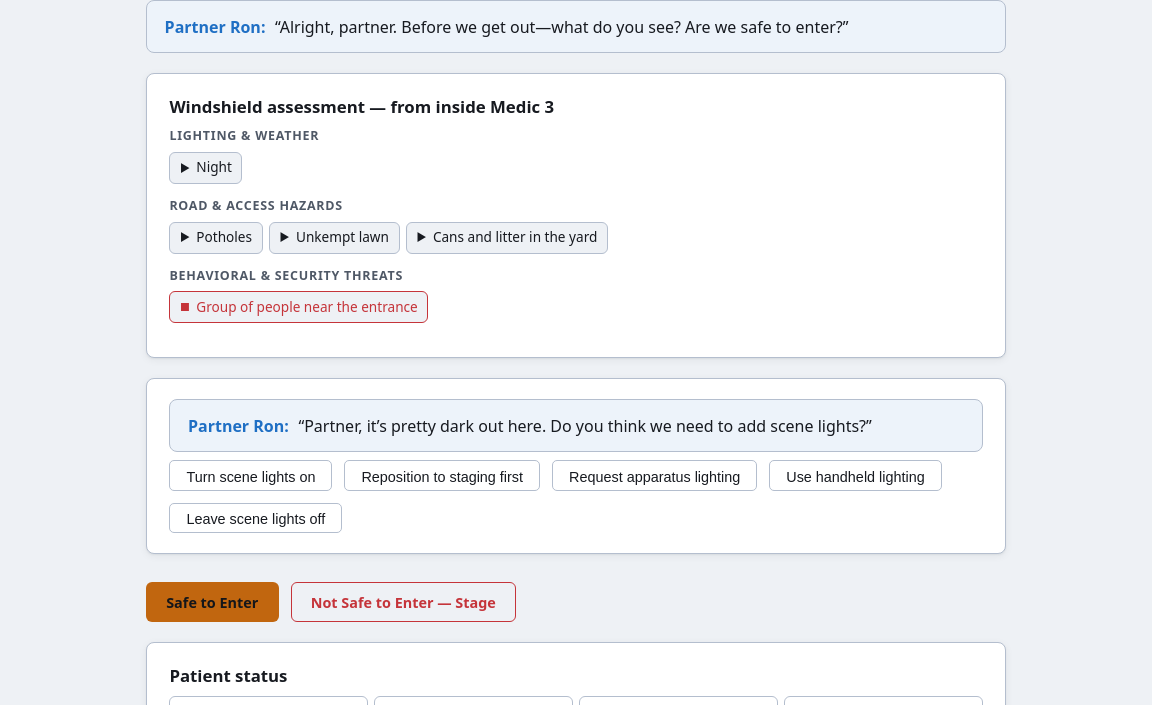
Test case: SceneSafety — windshield & clinical lock (§15, §19) › asks the dark-scene lights question and reveals hidden hazards when lights go on (§17, fix #5)
Expected: the text "Do you think we need to add scene lights" is shown, [304, 415, 866, 437]
Click the button "Turn scene lights on" at {"x": 251, "y": 475}, box [169, 460, 332, 491]
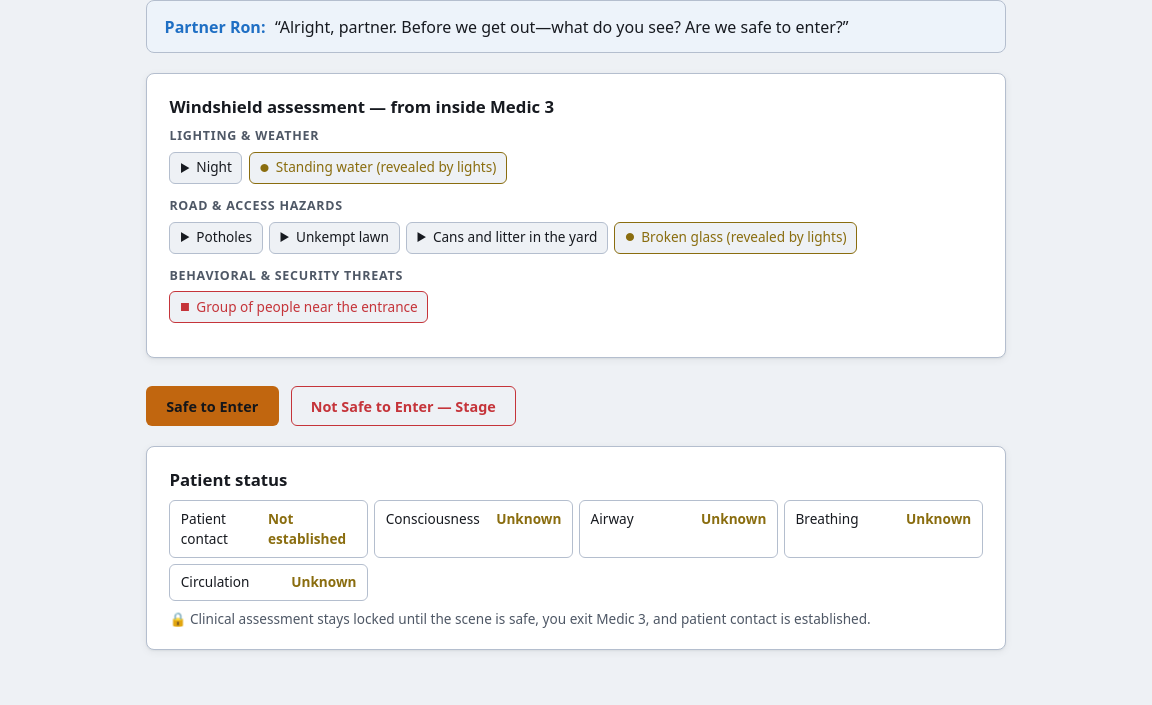
Expected: the text "● Standing water (revealed by lights)" is shown, [249, 152, 507, 184]
